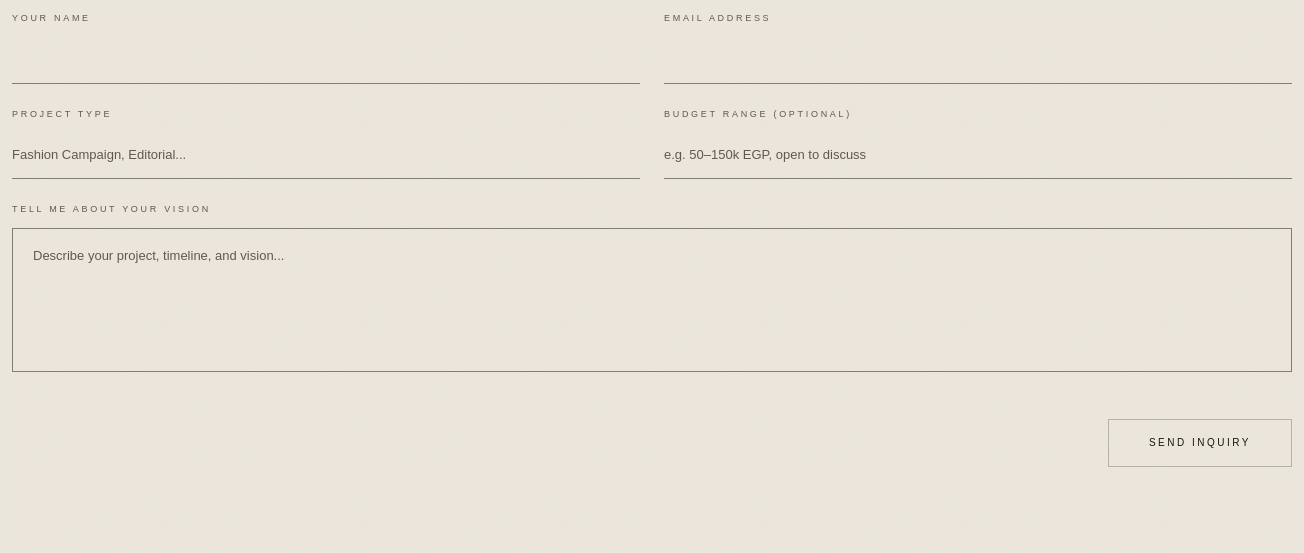
Scenario: Contact form › surfaces the server error message on a non-OK response
In the field labelled "Your Name": (326, 60) [12,37,640,84], type "Jane"
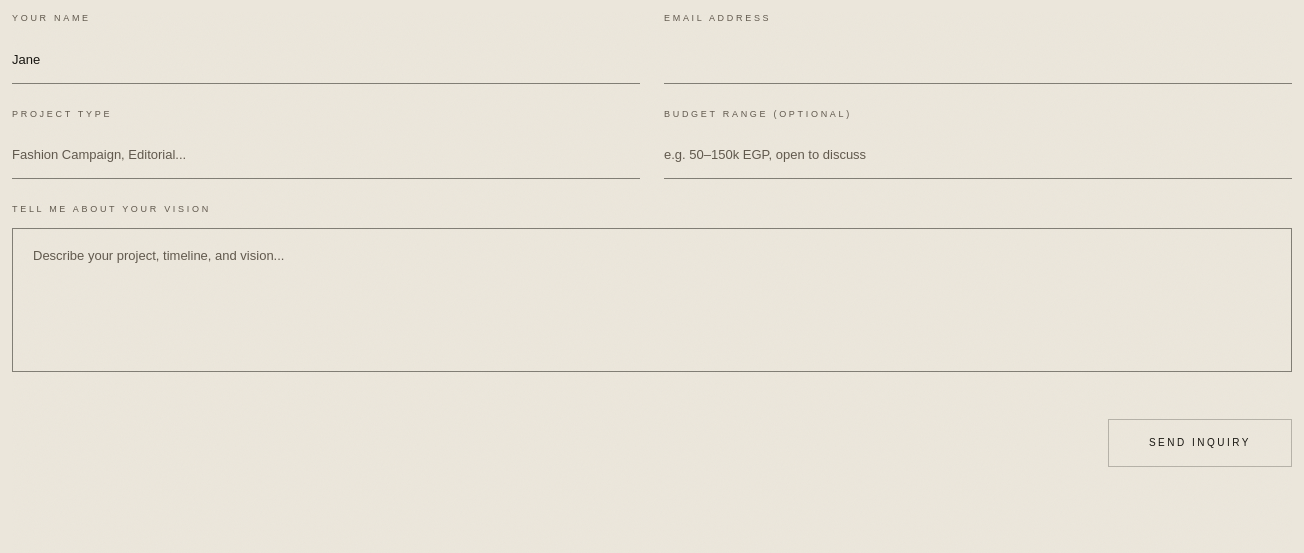
In the field labelled "Email Address": (978, 60) [664,37,1292,84], type "jane@acme.com"
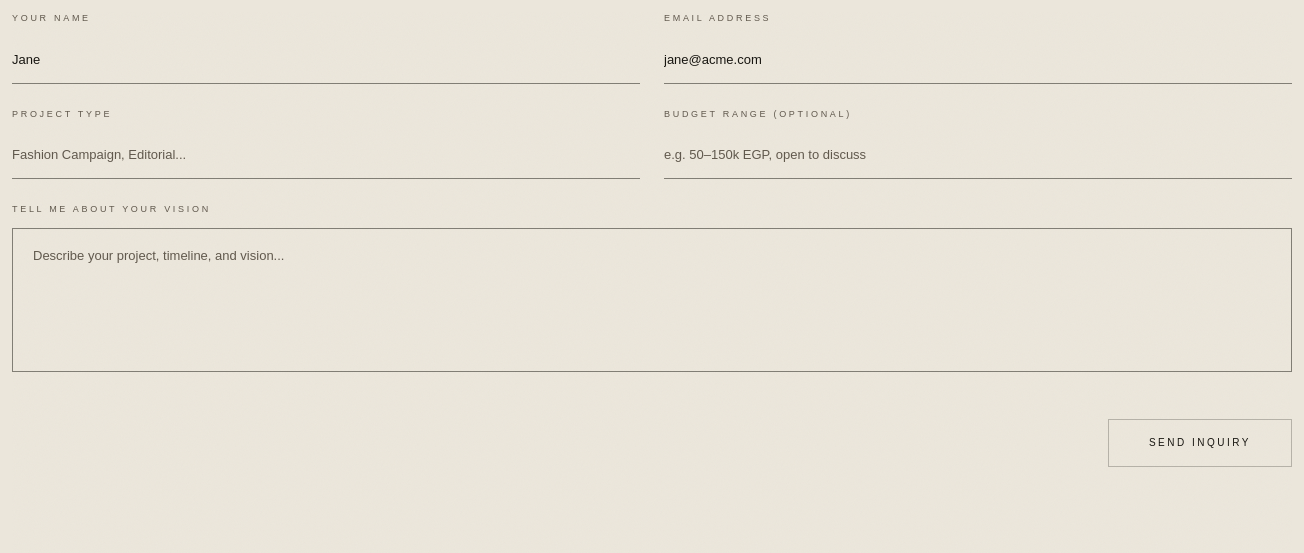
In the text box labelled "Tell me about your vision": (652, 300) [12,228,1292,372], type "A fashion campaign"
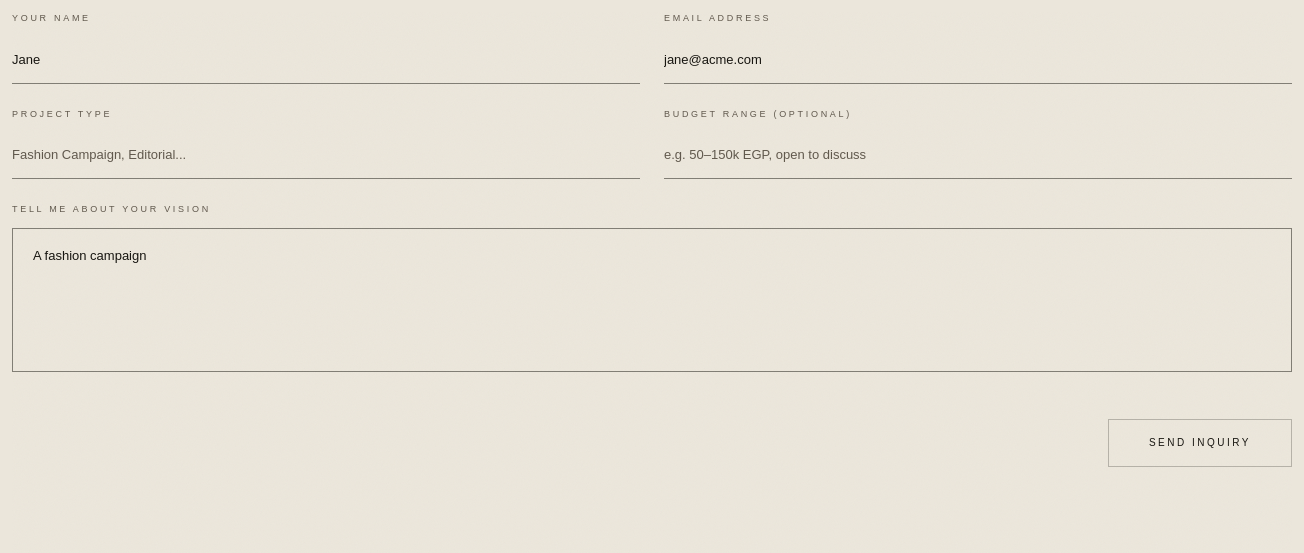
Click the button "Send Inquiry": (1200, 443) [1108,419,1292,467]
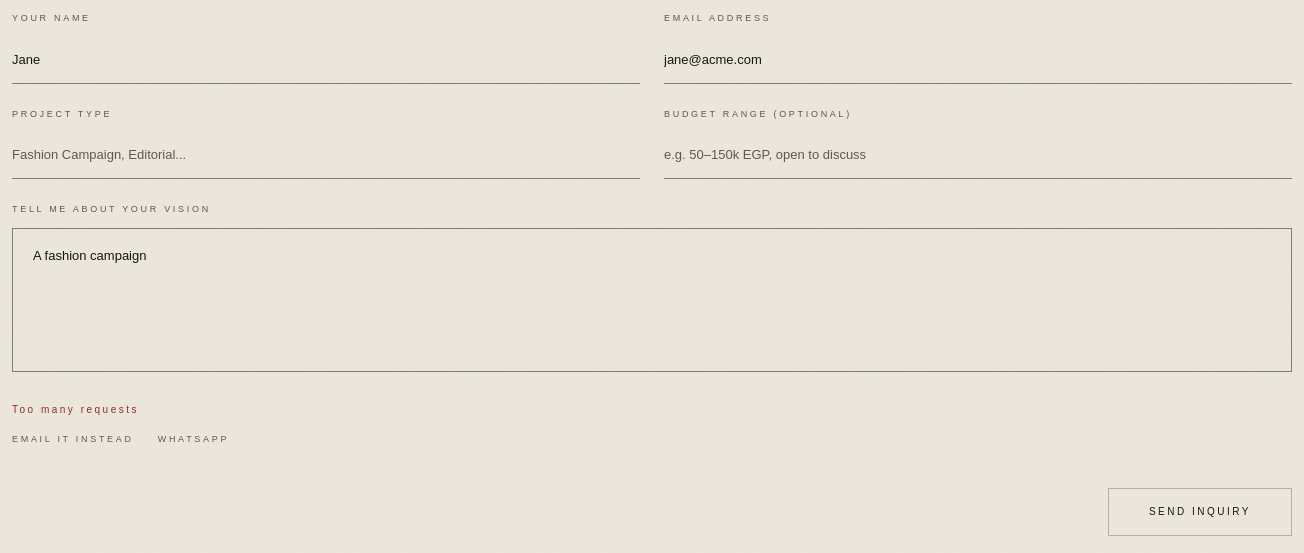
Check: the text "Too many requests" is shown, box [12,404,139,415]
